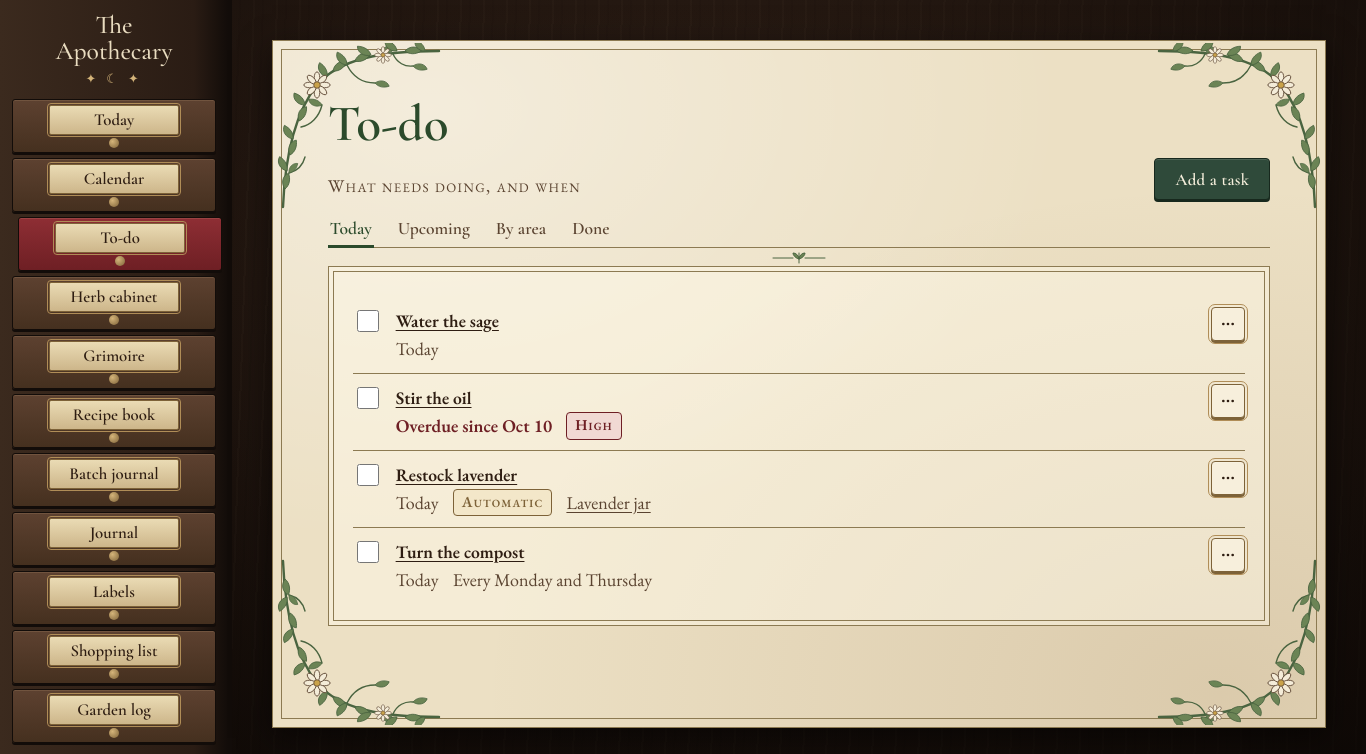
Test: checking a task completes it with the local day, and a repeat shows the next date
Expected: the link "Turn the compost" is shown, [396,540,524,563]
Click the checkbox named "Done: Turn the compost": (368, 552) [357,541,379,563]
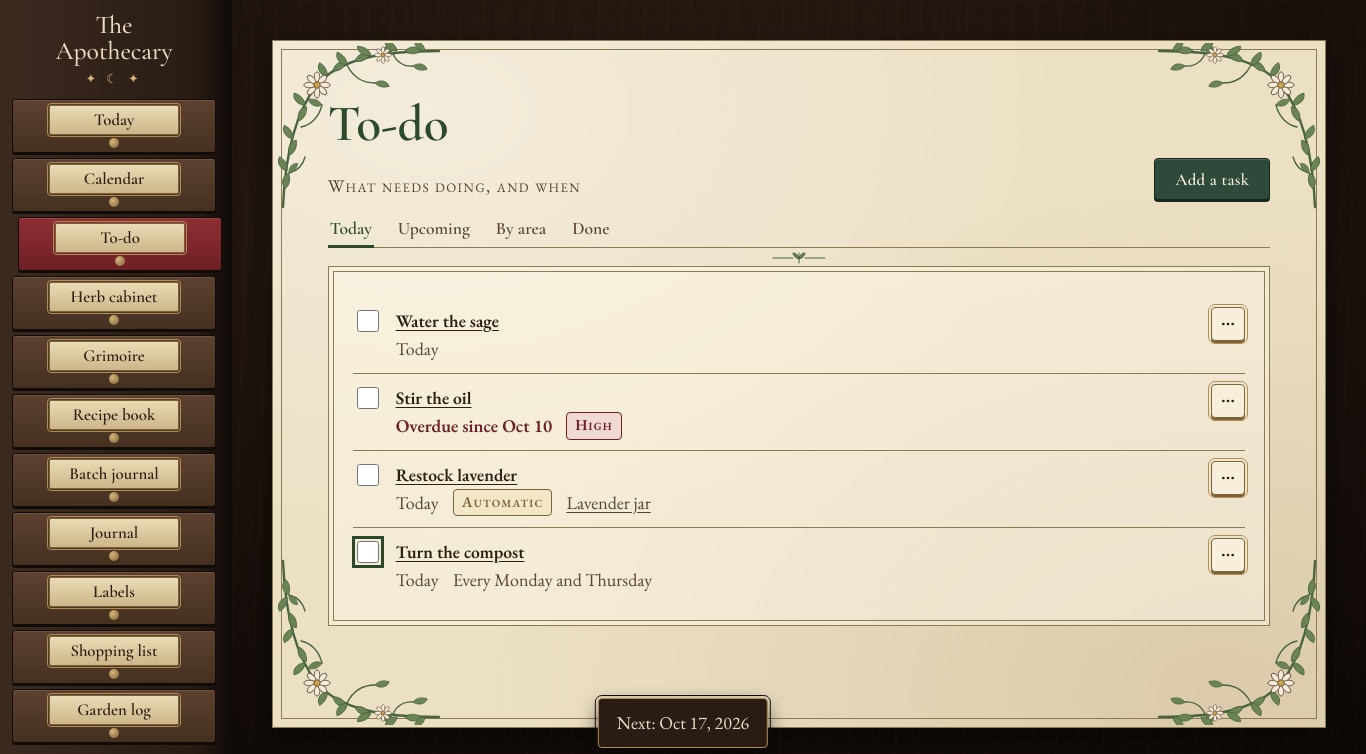
Now the text "Next: Oct 17, 2026" is shown, box [617,709,749,737]
